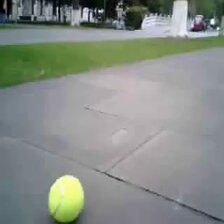tennis: (47, 175, 85, 223)
